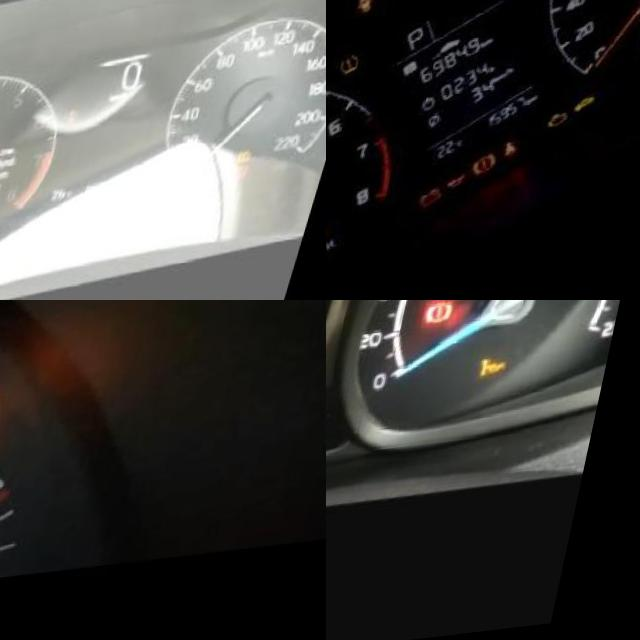Seat Belt: (523, 139, 550, 164)
